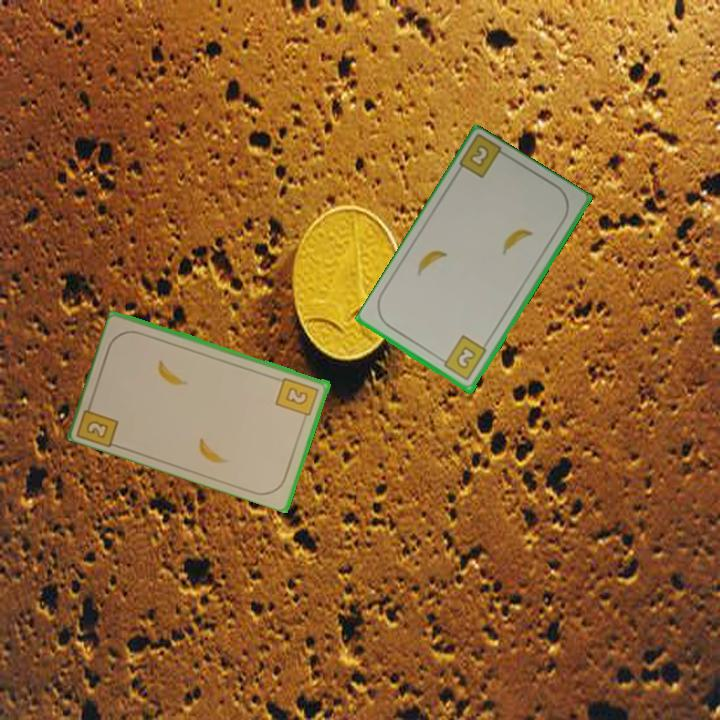2b: (436, 332, 489, 384), (273, 373, 322, 424), (76, 396, 122, 449), (466, 141, 492, 171)
